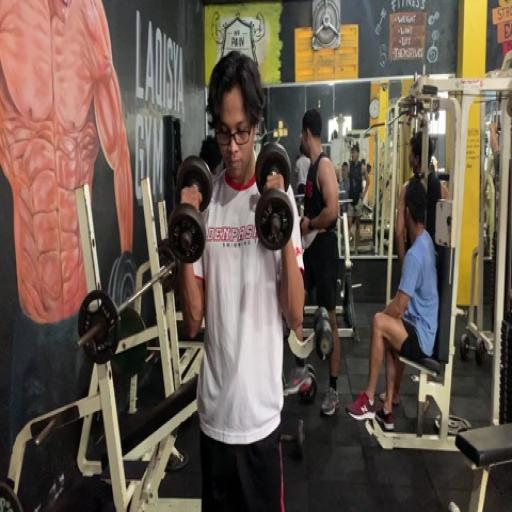exercise: (175, 48, 308, 510), (344, 176, 442, 434), (293, 106, 346, 420)
